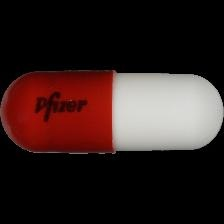21695-278: (0, 0, 224, 224)
